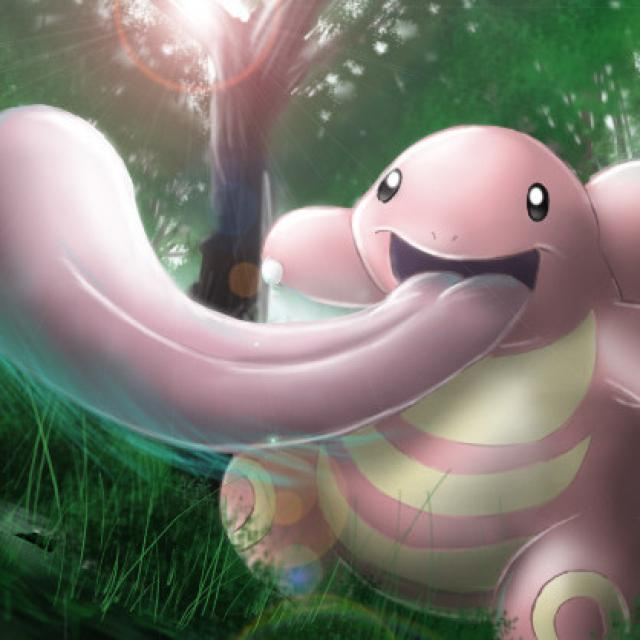Lickitung: (65, 125, 640, 538)
